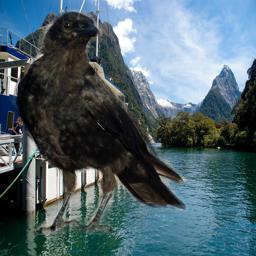Crow: (12, 9, 188, 235)
